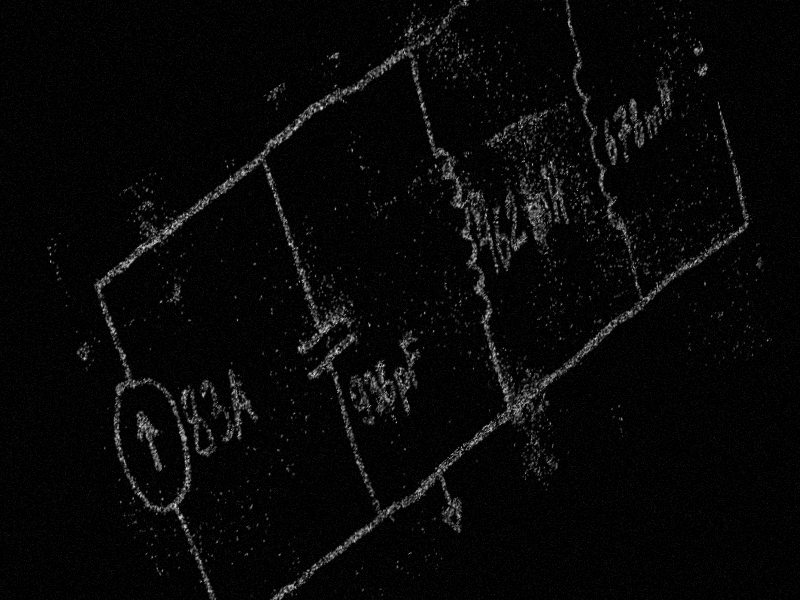2: (497, 184, 533, 256)
3: (196, 369, 238, 452), (361, 361, 388, 422)
4: (468, 201, 504, 283)
6: (482, 198, 519, 277), (596, 113, 624, 172)
7: (606, 99, 642, 170)
8: (175, 376, 220, 468), (622, 92, 651, 154), (372, 351, 400, 411)
9: (343, 366, 378, 439)
A: (216, 353, 262, 442)
F: (397, 327, 429, 393)
H: (537, 156, 575, 234), (650, 67, 679, 126)
m: (520, 186, 557, 244), (639, 99, 668, 146)
p: (391, 361, 420, 421)
